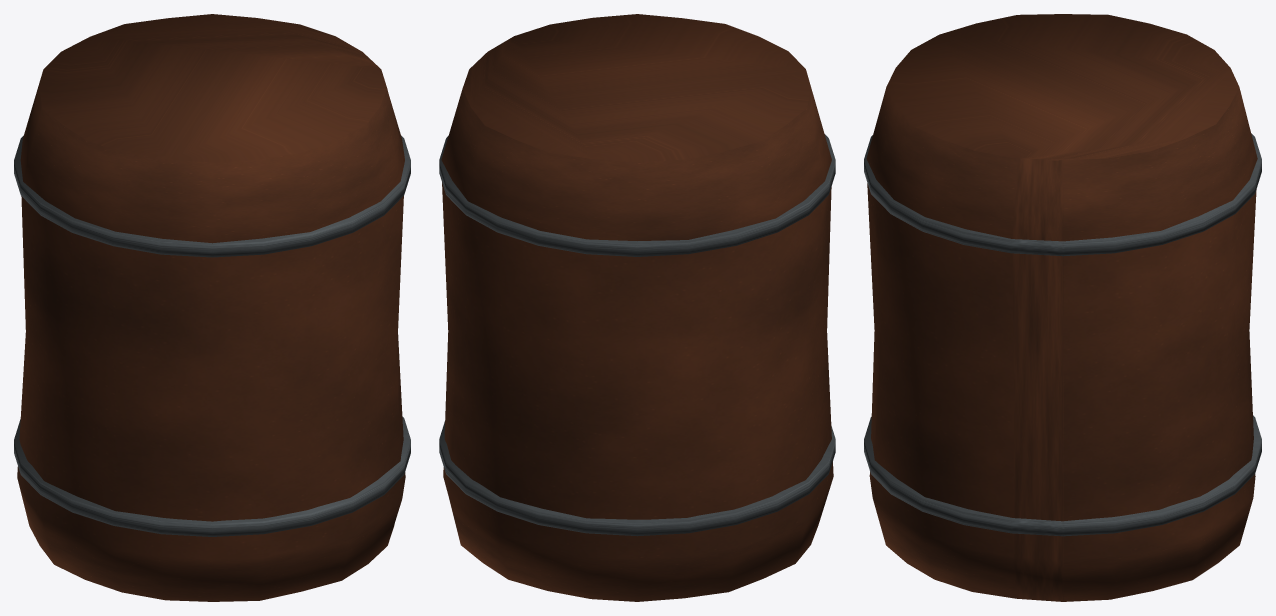
Rendered from barrel.glb.
3 renders of one model, left to right at view 1: azimuth 30°, elevation 25°; view 2: azimuth 150°, elevation 25°; view 3: azimuth 270°, elevation 25°, orthographic.
Visible parts, largest first — view 1: Dented_drum, Drum_hoop, Drum_hoop.001; view 2: Dented_drum, Drum_hoop, Drum_hoop.001; view 3: Dented_drum, Drum_hoop, Drum_hoop.001.
Boxes of the visible parts, <box> form: Dented_drum: <box>17,14,405,601</box>; Drum_hoop: <box>14,416,410,536</box>; Drum_hoop.001: <box>14,135,410,257</box>; Dented_drum: <box>441,14,833,601</box>; Drum_hoop: <box>439,420,835,536</box>; Drum_hoop.001: <box>439,134,835,256</box>; Dented_drum: <box>866,14,1257,601</box>; Drum_hoop: <box>864,415,1261,536</box>; Drum_hoop.001: <box>864,133,1261,256</box>.
Bounding box in the file's own units: 0.592 × 0.72 × 0.592.
Materials: 2 (2 with a texture image).
